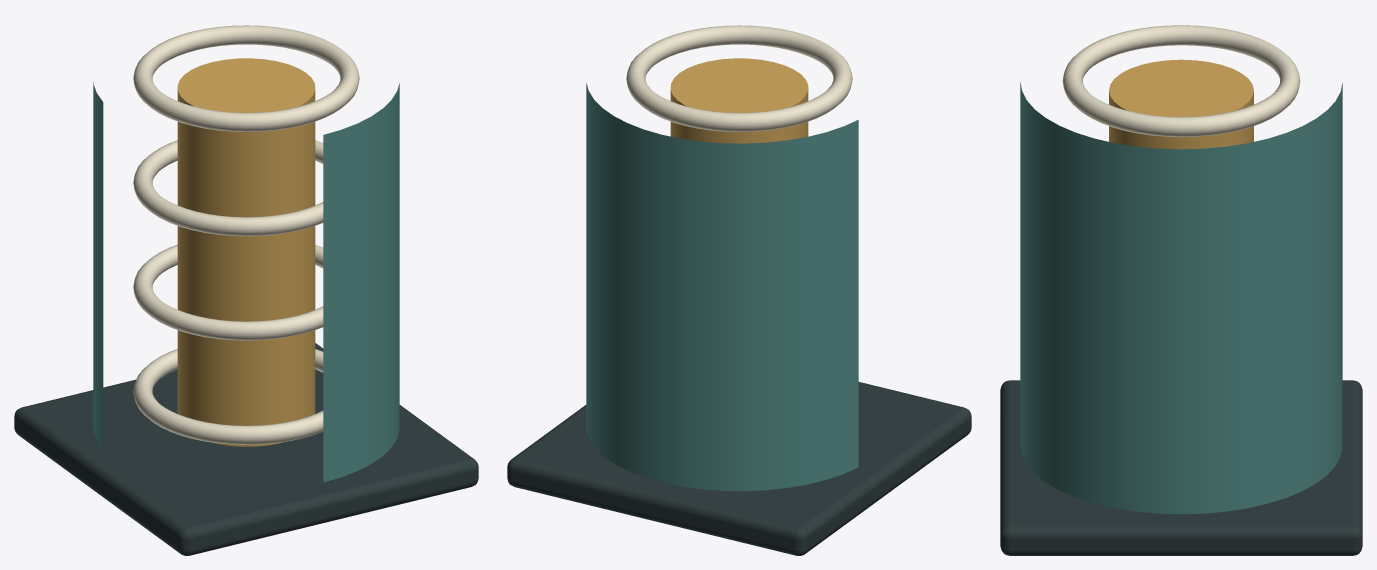
Rendered from cutaway.glb.
3 views of the same model, side by side, from view 1: azimuth 30°, elevation 25°; view 2: azimuth 150°, elevation 25°; view 3: azimuth 270°, elevation 25° (orthographic). The views are drawn at different scales.
Parts seen in each view (by area): view 1: cutaway; view 2: cutaway; view 3: cutaway.
Part boxes in pixels (x1,y1,x2,y2): cutaway: [14, 25, 478, 555]; cutaway: [507, 25, 971, 555]; cutaway: [1000, 25, 1362, 555].
Bounding box in the file's own units: 0.9 × 1.12 × 0.9.
